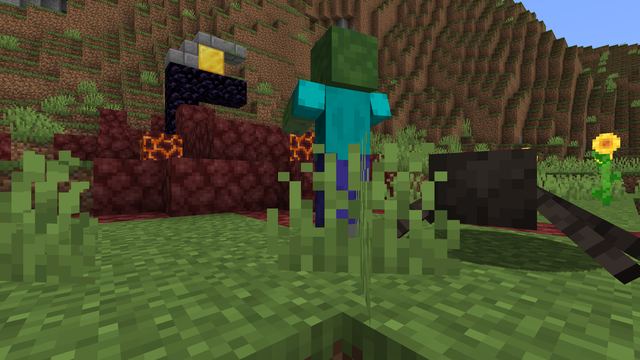araignees: (404, 132, 599, 285)
zombies: (301, 24, 384, 252)
